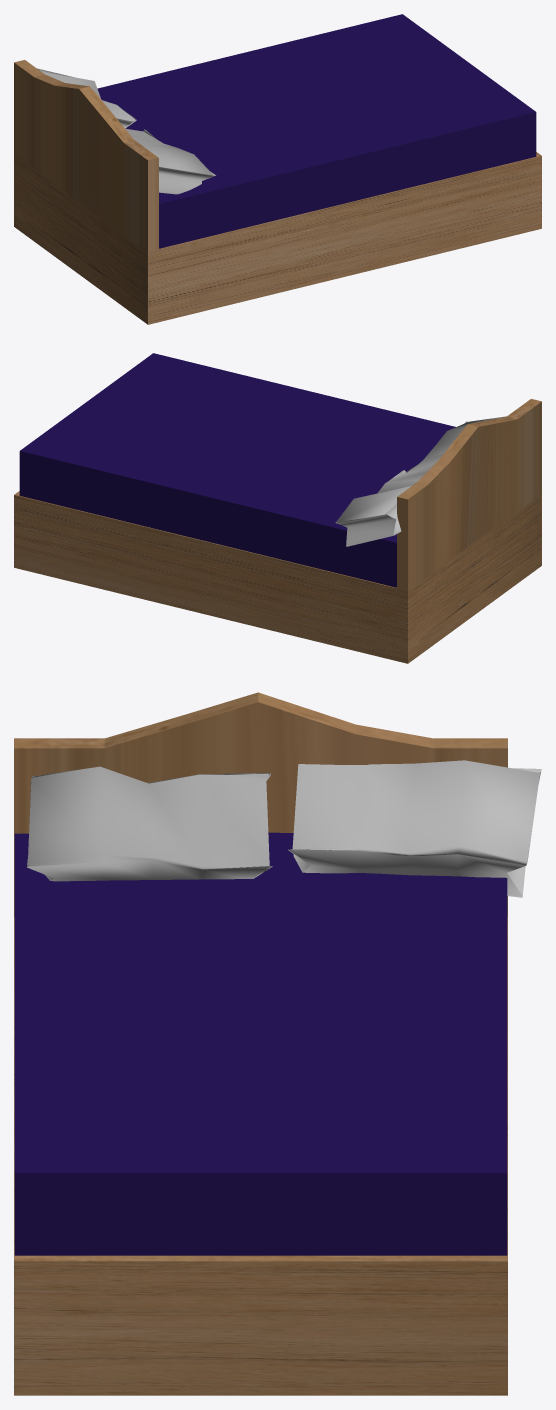
File: BED.glb
3 views of the same model, one above another, from view 1: azimuth 30°, elevation 25°; view 2: azimuth 150°, elevation 25°; view 3: azimuth 270°, elevation 25° (orthographic). The views are drawn at different scales.
Visible parts, largest first — view 1: Cube.001, Cube, Cube.002, Cube.003; view 2: Cube.001, Cube, Cube.003, Cube.002; view 3: Cube.001, Cube, Cube.003, Cube.002.
Part boxes in pixels (x1,y1,x2,y2): Cube.001: (97,14,536,248); Cube: (14,60,541,324); Cube.002: (125,128,215,194); Cube.003: (37,68,136,128); Cube.001: (19,353,455,587); Cube: (14,399,541,663); Cube.003: (335,469,429,546); Cube.002: (406,416,506,472); Cube.001: (14,832,507,1255); Cube: (14,692,507,1395); Cube.003: (288,760,541,897); Cube.002: (27,766,272,881).
Size of the model in its own units: 3.42 by 1.55 by 2.14.
Materials: 4 (1 with a texture image).
